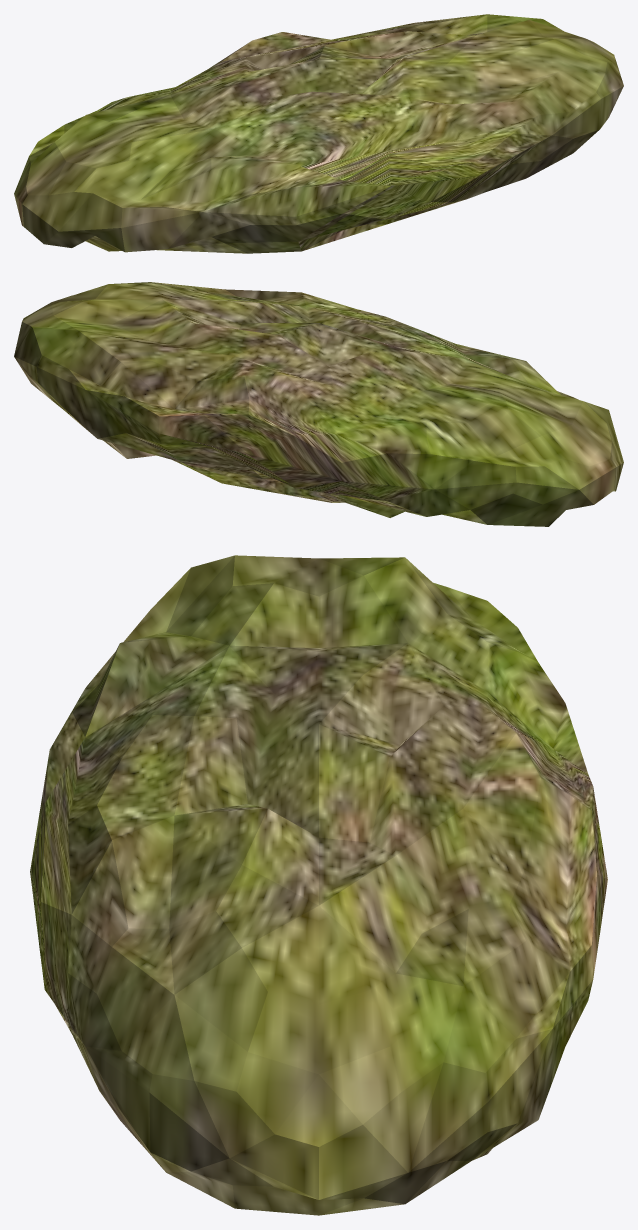
Rendered from Bush4.glb.
3 renders of one model, top to bottom at view 1: azimuth 30°, elevation 25°; view 2: azimuth 150°, elevation 25°; view 3: azimuth 270°, elevation 25°, orthographic. The views are drawn at different scales.
Parts seen in each view (by area): view 1: Icosphere; view 2: Icosphere; view 3: Icosphere.
Part boxes in pixels (left/top/right/bottom): Icosphere: left=14, top=14, right=623, bottom=253; Icosphere: left=14, top=282, right=623, bottom=526; Icosphere: left=30, top=555, right=607, bottom=1215.
Size of the model in its own units: 30.69 by 7.62 by 12.94.
1 material, 1 textured.
